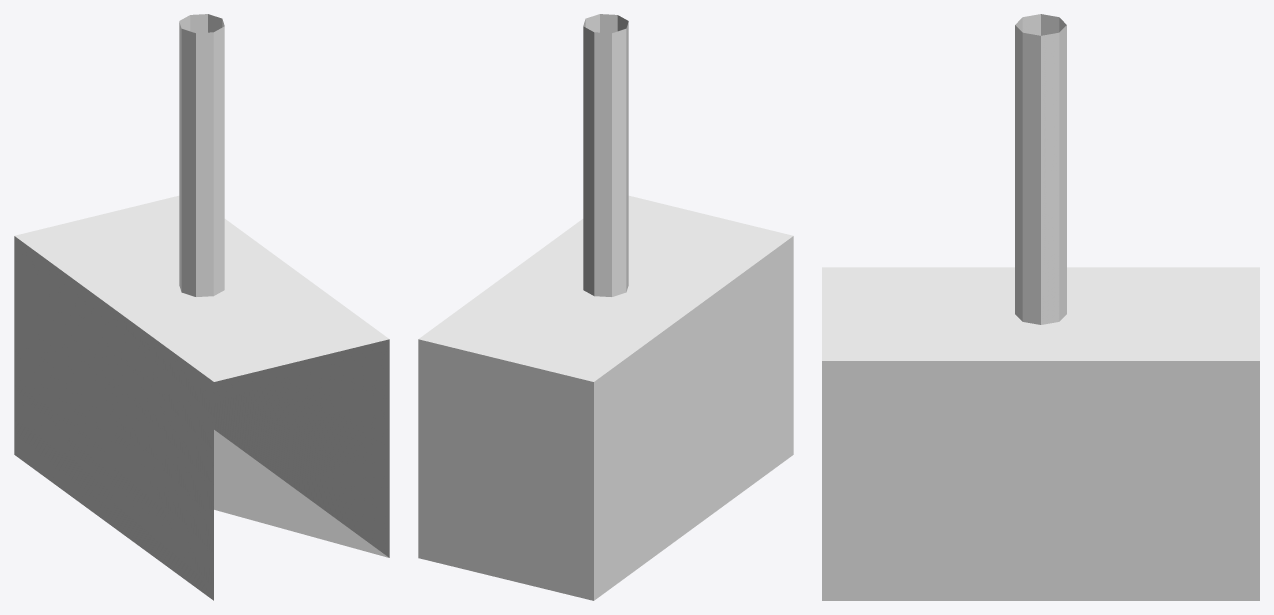
The model's file is donghua #1164123.fbx.
3 renders of one model, left to right at view 1: azimuth 30°, elevation 25°; view 2: azimuth 150°, elevation 25°; view 3: azimuth 270°, elevation 25°, orthographic. The views are drawn at different scales.
Parts seen in each view (by area): view 1: donghua; view 2: donghua; view 3: donghua.
Boxes of the visible parts, x1,y1,x2,y2 form: donghua: [14, 14, 389, 600]; donghua: [418, 14, 793, 600]; donghua: [822, 14, 1259, 600].
Bounding box in the file's own units: 0.5852 × 1.54 × 1.15.
